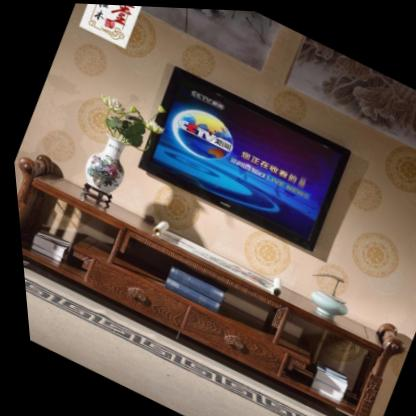TV stand: (10, 139, 414, 416)
